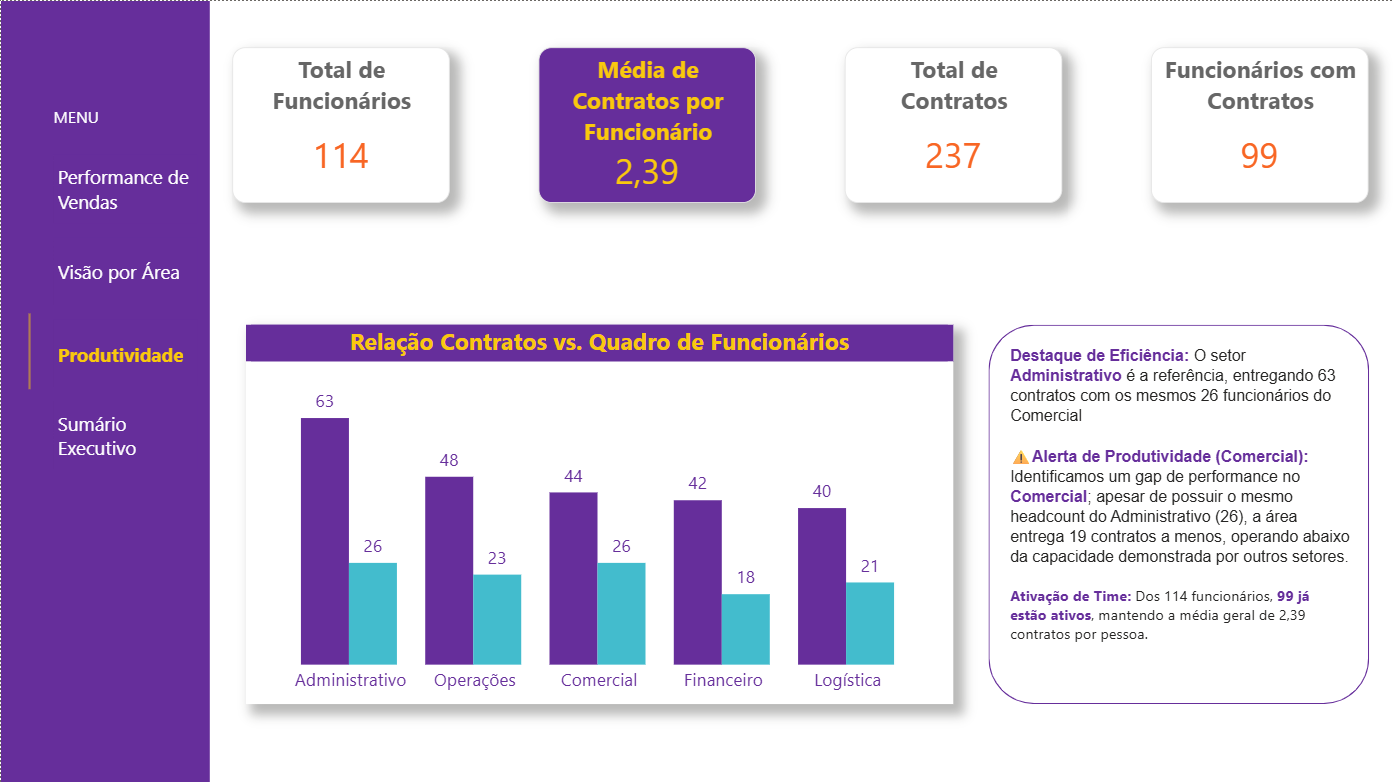

Layout of this report page (visuals, bound fields, positions):
{"tool":"powerbi","page":{"name":"Produtividade","canvas":[1280,720],"ordinal":3},"visuals":[{"type":"clusteredColumnChart","title":"Relação Contratos vs. Quadro de Funcionários","fields":{"Category":["CadastroFuncionarios.Area"],"Y":["Tab Medidas.Total Contratos Fechados","Tab Medidas.Total Funcionários"]},"box":[225,297.5,650,348.8],"z":0},{"type":"shape","box":[0,0,192,1100],"z":1000},{"type":"shape","box":[47.8,84,100,44],"z":2000},{"type":"actionButton","box":[47.8,141.1,132,63],"z":3000},{"type":"actionButton","box":[47.8,217.3,132.2,62.2],"z":4000},{"type":"shape","box":[15.8,287.4,20.3,69.9],"z":5000},{"type":"actionButton","box":[47.8,292.6,133,62],"z":6000},{"type":"card","title":"Total de Funcionários","fields":{"Values":["Tab Medidas.Total Funcionários"]},"box":[212.2,42.2,200,143.3],"z":7000},{"type":"card","title":"Funcionários com Contratos","fields":{"Values":["Contratos.Total Funcionários Ativos"]},"box":[1057.1,42.9,200,143],"z":8000},{"type":"card","title":"Total de Contratos","fields":{"Values":["Contratos.Total Contratos Fechados"]},"box":[775.5,42.9,200,143],"z":9000},{"type":"card","title":"Média de Contratos por Funcionário ","fields":{"Values":["Tab Medidas.Taxa de Produtividade (Contratos p/ Funcionário)"]},"box":[493.9,42.6,200,143.3],"z":10000},{"type":"shape","box":[907.5,297.5,350,348.8],"z":11000},{"type":"textbox","box":[922.5,311.2,322.5,321.2],"z":12000},{"type":"actionButton","box":[47.8,367.8,132.2,62.2],"z":13000}]}

Visuals, with their boxes in screenshot pixels (x1, y1, x2, y2), scaled from the page's 1280x720 canvas onto the 1393x782 screenshot:
"Relação Contratos vs. Quadro de Funcionários" clusteredColumnChart: bbox=(245, 323, 952, 702)
shape: bbox=(0, 0, 209, 781)
shape: bbox=(52, 91, 161, 139)
actionButton: bbox=(52, 153, 196, 222)
actionButton: bbox=(52, 236, 196, 304)
shape: bbox=(17, 312, 39, 388)
actionButton: bbox=(52, 318, 197, 385)
"Total de Funcionários" card: bbox=(231, 46, 449, 201)
"Funcionários com Contratos" card: bbox=(1150, 47, 1368, 202)
"Total de Contratos" card: bbox=(844, 47, 1062, 202)
"Média de Contratos por Funcionário " card: bbox=(538, 46, 755, 202)
shape: bbox=(988, 323, 1369, 702)
textbox: bbox=(1004, 338, 1355, 687)
actionButton: bbox=(52, 399, 196, 467)
